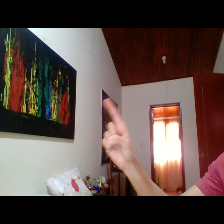2T: (96, 93, 136, 170)
